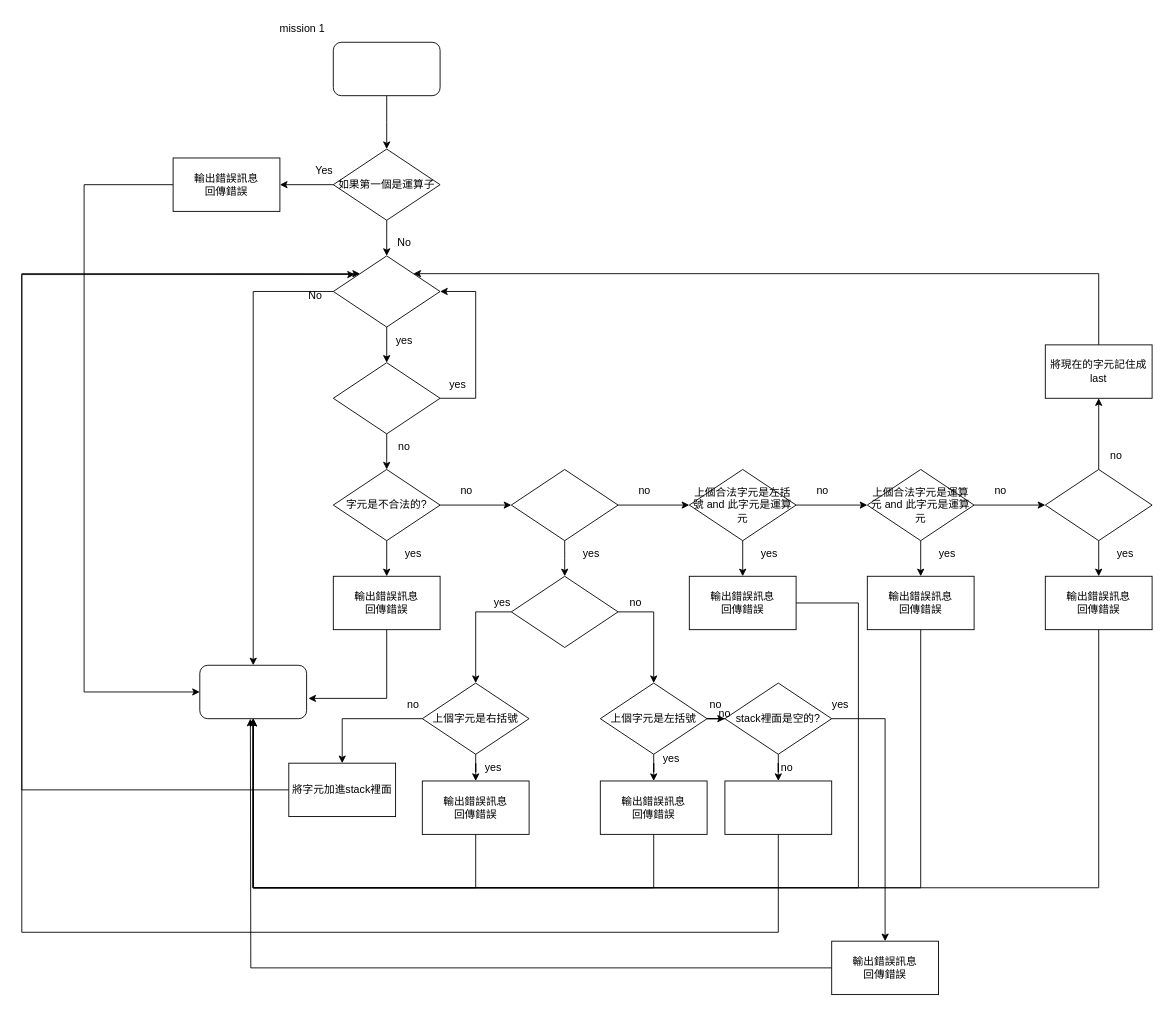
The diagram is 1168 pixels wide and 1010 high, and some of its shapes have lost their labels. The shapes that lost their labels are listed below. From the top down, each one's centre as x and y in pixels, then its label:
At [386,68]: "開始".
At [386,291]: "重複進入的字串小於等於長度?".
At [386,398]: "如果是空白或是table".
At [564,505]: "字元是括號".
At [1098,505]: "上個合法字元是有括號 and 此字元是數字".
At [564,611]: "字元是右括號".
At [253,691]: "end and return true".
At [778,807]: "stack彈出最後一個".
